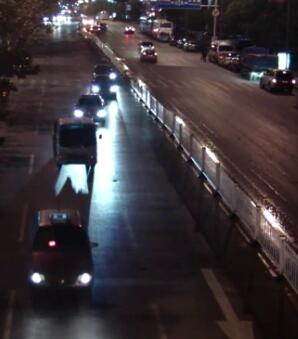bus: (147, 14, 175, 42)
car: (23, 203, 100, 301), (52, 114, 100, 172), (73, 92, 107, 129), (253, 64, 292, 91), (86, 76, 122, 101), (88, 60, 117, 87), (208, 38, 226, 63), (219, 49, 243, 67), (139, 48, 159, 63), (137, 41, 157, 53), (124, 21, 138, 36)
